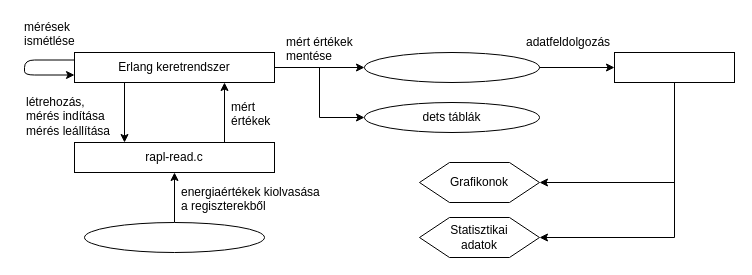
The diagram is 752 pixels wide and 275 high, and some of its shapes have lost their labels. The shapes that lost their labels are listed below. From the top down, each one's centre as x and y in pixels, then its label:
the point at 452,67: CSV logok
the point at 674,67: Python szkript
the point at 174,237: RAPL regiszterek
